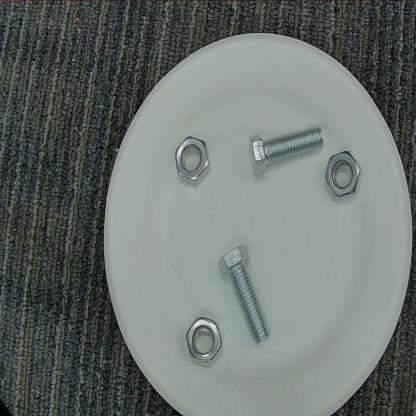FOD: (215, 240, 274, 354), (248, 122, 324, 179), (321, 147, 364, 207), (184, 310, 224, 368), (171, 134, 211, 188)
